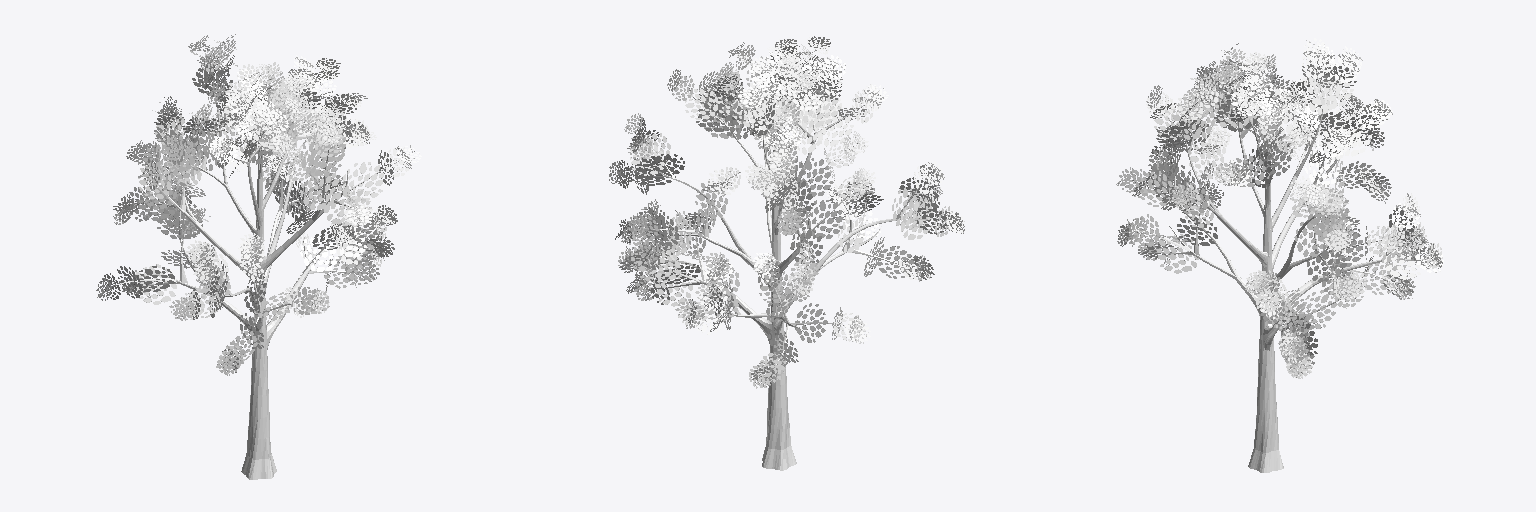
3 views of the same model, side by side, from view 1: azimuth 30°, elevation 25°; view 2: azimuth 150°, elevation 25°; view 3: azimuth 270°, elevation 25° (orthographic).
Parts seen in each view (by area): view 1: tree; view 2: tree; view 3: tree.
Boxes of the visible parts, x1,y1,x2,y2 form: tree: [96, 34, 421, 479]; tree: [609, 36, 965, 470]; tree: [1116, 38, 1443, 472].
Bounding box in the file's own units: 320 × 451 × 322.
2 materials, 1 textured.